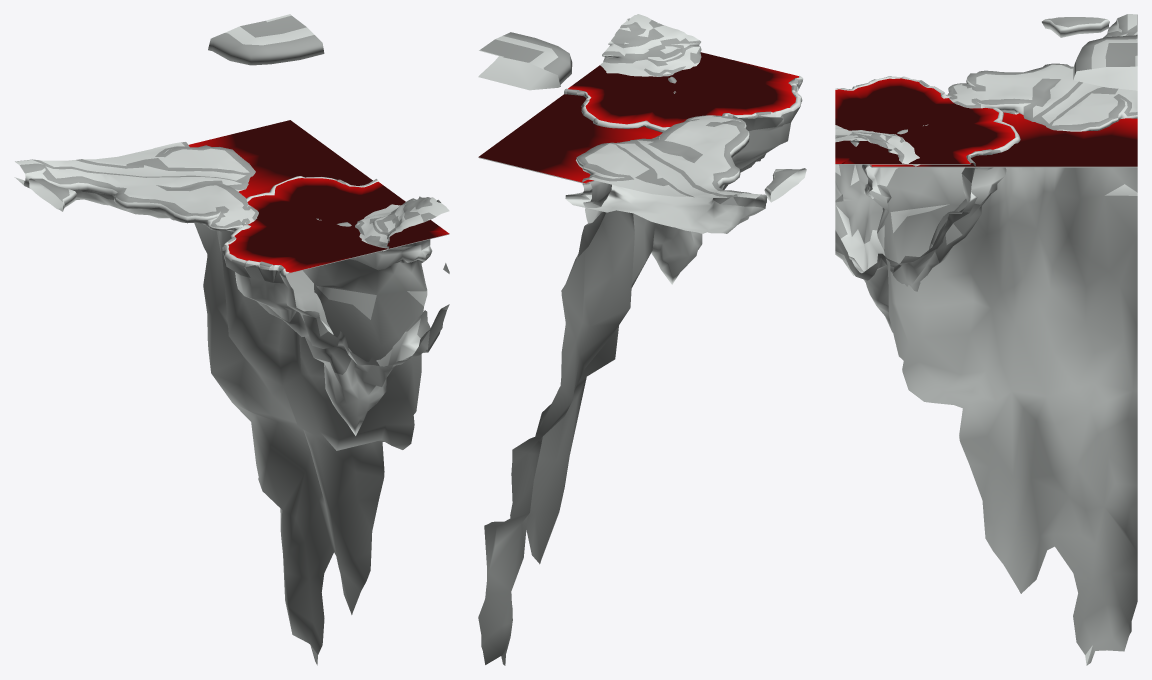
3 views of the same model, side by side, from view 1: azimuth 30°, elevation 25°; view 2: azimuth 150°, elevation 25°; view 3: azimuth 270°, elevation 25° (orthographic). The views are drawn at different scales.
Parts seen in each view (by area): view 1: G:\FFXIV-MapTools\exports\a2f1\bg\ex1\03_abr_a2\fld\a2f1\bgp (×13); view 2: G:\FFXIV-MapTools\exports\a2f1\bg\ex1\03_abr_a2\fld\a2f1\bgp (×13); view 3: G:\FFXIV-MapTools\exports\a2f1\bg\ex1\03_abr_a2\fld\a2f1\bgp (×14).
Part boxes in pixels (<box>): G:\FFXIV-MapTools\exports\a2f1\bg\ex1\03_abr_a2\fld\a2f1\bgp (×13): <box>14,15,449,664</box>; G:\FFXIV-MapTools\exports\a2f1\bg\ex1\03_abr_a2\fld\a2f1\bgp (×13): <box>478,14,806,665</box>; G:\FFXIV-MapTools\exports\a2f1\bg\ex1\03_abr_a2\fld\a2f1\bgp (×14): <box>835,14,1137,665</box>.
Size of the model in its own units: 128 by 280 by 128.
